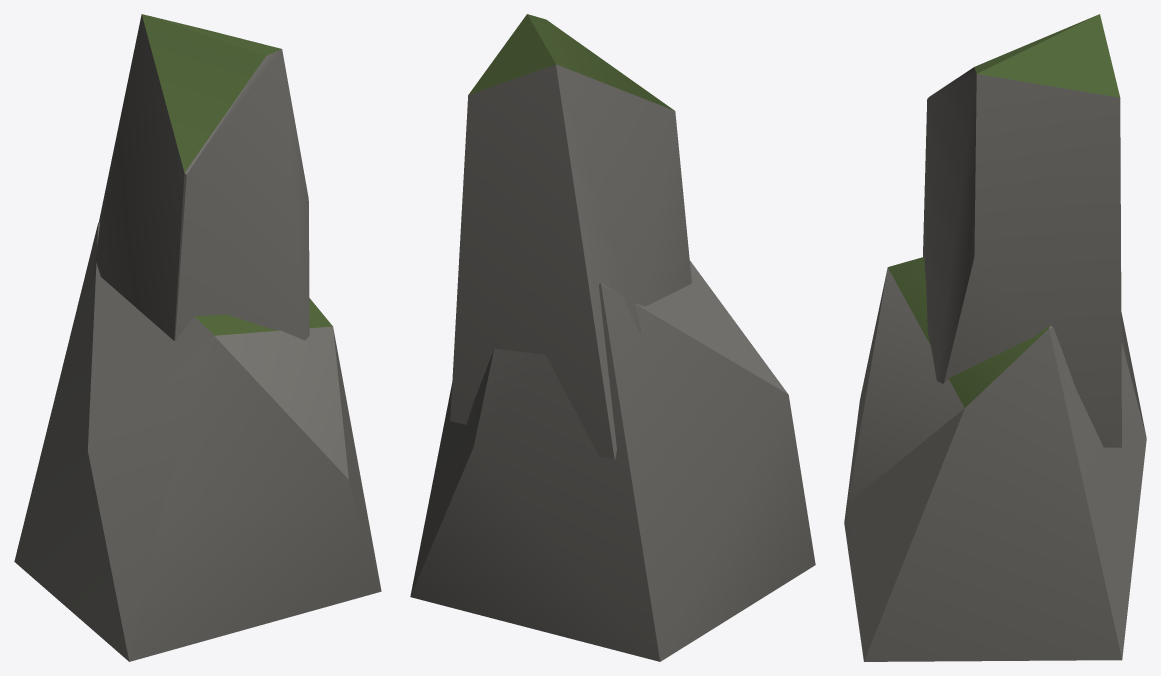
File: RockMassSmall.fbx
The picture shows the model from 3 angles, left to right: view 1: azimuth 30°, elevation 25°; view 2: azimuth 150°, elevation 25°; view 3: azimuth 270°, elevation 25°; orthographic projection. The views are drawn at different scales.
Visible parts, largest first — view 1: RockMassSmall; view 2: RockMassSmall; view 3: RockMassSmall.
Boxes of the visible parts, bbox=[...] form: RockMassSmall: bbox=[14, 14, 381, 661]; RockMassSmall: bbox=[410, 14, 815, 661]; RockMassSmall: bbox=[844, 14, 1146, 661].
Size of the model in its own units: 1.12 by 2.1 by 0.9976.
